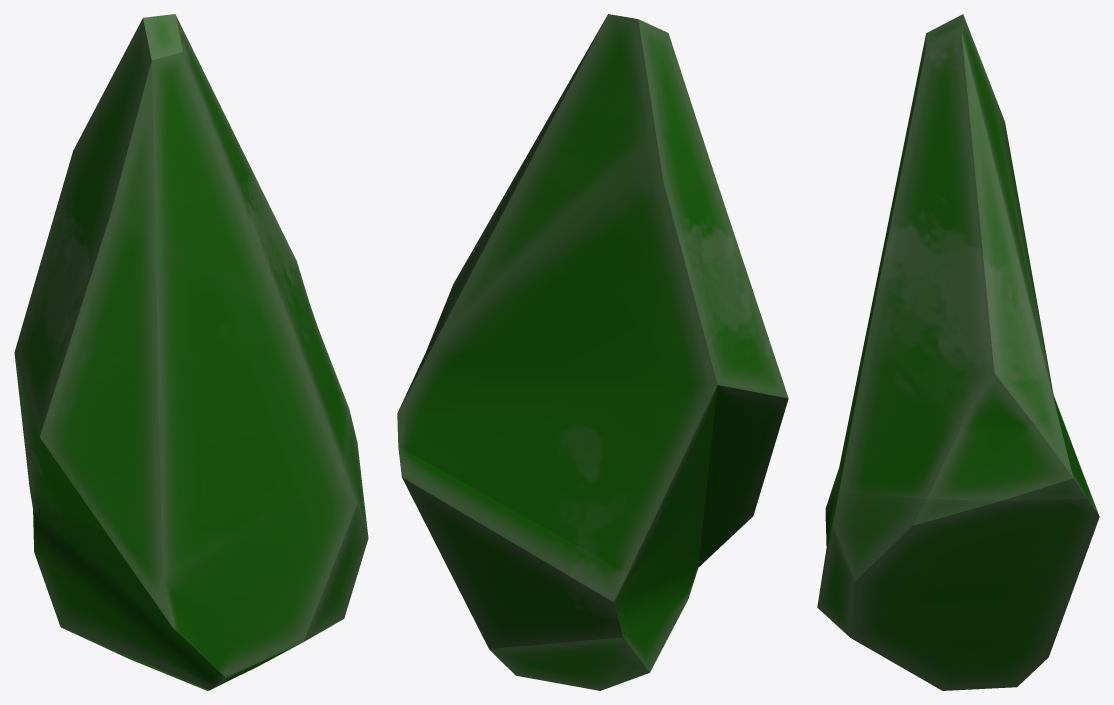
The model's file is Rock_08_01.fbx.
3 renders of one model, left to right at view 1: azimuth 30°, elevation 25°; view 2: azimuth 150°, elevation 25°; view 3: azimuth 270°, elevation 25°, orthographic. The views are drawn at different scales.
Parts seen in each view (by area): view 1: Rock_08_01; view 2: Rock_08_01; view 3: Rock_08_01.
Boxes of the visible parts, x1=… form: Rock_08_01: x1=14, y1=14, x2=368, y2=690; Rock_08_01: x1=397, y1=14, x2=788, y2=690; Rock_08_01: x1=817, y1=14, x2=1099, y2=690.
Size of the model in its own units: 0.9808 by 1.98 by 0.8054.
